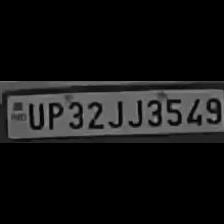2: (84, 97, 104, 128)
3: (64, 97, 84, 128), (144, 96, 162, 127)
4: (184, 95, 202, 125)
5: (162, 94, 182, 125)
9: (202, 95, 222, 125)
J: (105, 96, 124, 128), (125, 96, 143, 128)
P: (44, 98, 64, 130)
U: (24, 99, 44, 129)
